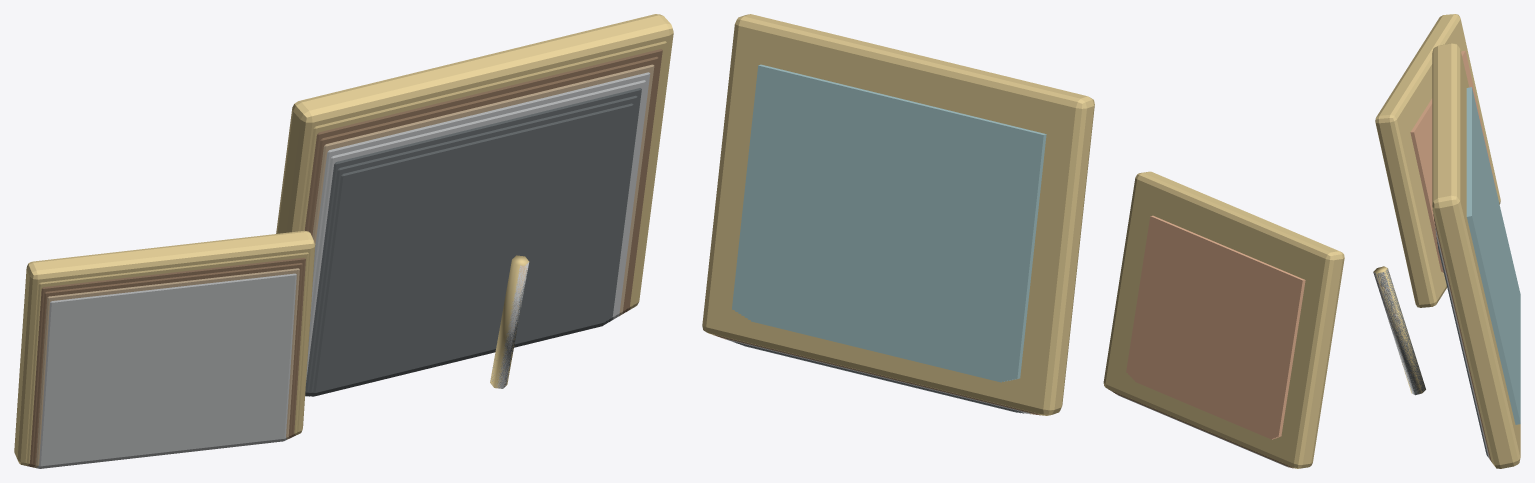
File: Gear07.fbx
3 renders of one model, left to right at view 1: azimuth 30°, elevation 25°; view 2: azimuth 150°, elevation 25°; view 3: azimuth 270°, elevation 25°, orthographic. The views are drawn at different scales.
Visible parts, largest first — view 1: Gear07_V1_Charcoal, Gear07_V5_BrushedSteel, Gear07_V10_Brass, Gear07_V9_Brass, Gear07_V8_Walnut, Gear07_V6_Oak, Gear07_V7_Walnut, Gear07_V3_Charcoal, Gear07_V4_BrushedSteel, Gear07_V2_Charcoal; view 2: Gear07_V10_Blue, Gear07_V10_Brass, Gear07_V10_Apricot; view 3: Gear07_V10_Brass, Gear07_V10_Blue, Gear07_V10_Apricot, Gear07_V1_Charcoal, Gear07_V5_BrushedSteel, Gear07_V2_Charcoal, Gear07_V3_Charcoal, Gear07_V9_Brass, Gear07_V6_Oak, Gear07_V7_Walnut, Gear07_V8_Walnut, Gear07_V4_BrushedSteel.
Boxes of the visible parts, <box> form: Gear07_V1_Charcoal: <box>310,103,633,396</box>; Gear07_V5_BrushedSteel: <box>36,72,650,468</box>; Gear07_V10_Brass: <box>14,14,673,465</box>; Gear07_V9_Brass: <box>24,41,666,465</box>; Gear07_V8_Walnut: <box>27,49,662,466</box>; Gear07_V6_Oak: <box>33,64,654,467</box>; Gear07_V7_Walnut: <box>30,56,658,467</box>; Gear07_V3_Charcoal: <box>305,88,641,396</box>; Gear07_V4_BrushedSteel: <box>306,80,645,382</box>; Gear07_V2_Charcoal: <box>306,95,637,396</box>; Gear07_V10_Blue: <box>732,64,1046,379</box>; Gear07_V10_Brass: <box>702,14,1344,468</box>; Gear07_V10_Apricot: <box>1126,215,1305,436</box>; Gear07_V10_Brass: <box>1373,14,1520,468</box>; Gear07_V10_Blue: <box>1466,87,1520,424</box>; Gear07_V10_Apricot: <box>1410,50,1496,271</box>; Gear07_V1_Charcoal: <box>1378,247,1486,454</box>; Gear07_V5_BrushedSteel: <box>1373,228,1489,458</box>; Gear07_V2_Charcoal: <box>1378,242,1487,456</box>; Gear07_V3_Charcoal: <box>1374,237,1488,456</box>; Gear07_V9_Brass: <box>1374,209,1492,462</box>; Gear07_V6_Oak: <box>1374,223,1490,459</box>; Gear07_V7_Walnut: <box>1380,219,1490,460</box>; Gear07_V8_Walnut: <box>1380,214,1491,461</box>; Gear07_V4_BrushedSteel: <box>1387,233,1488,457</box>.
Bounding box in the file's own units: 33.66 × 16.09 × 7.7.
